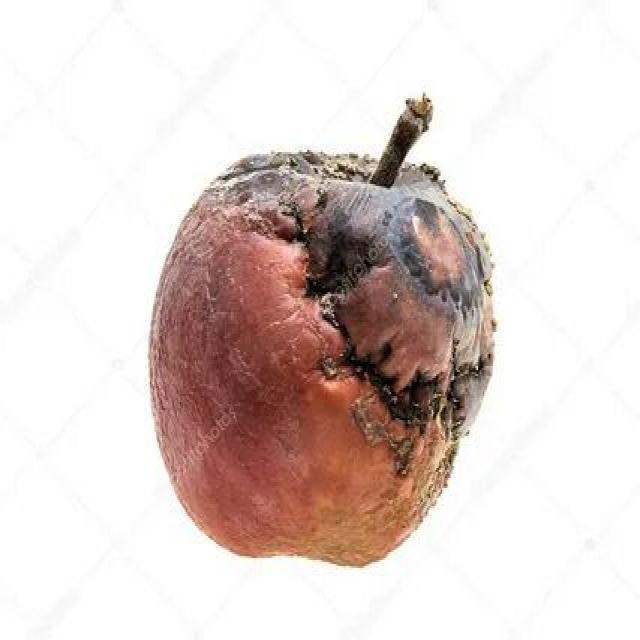Banana: (138, 143, 505, 573)
